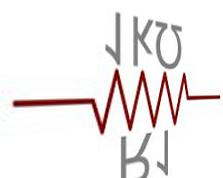resistor: (73, 66, 197, 130)
